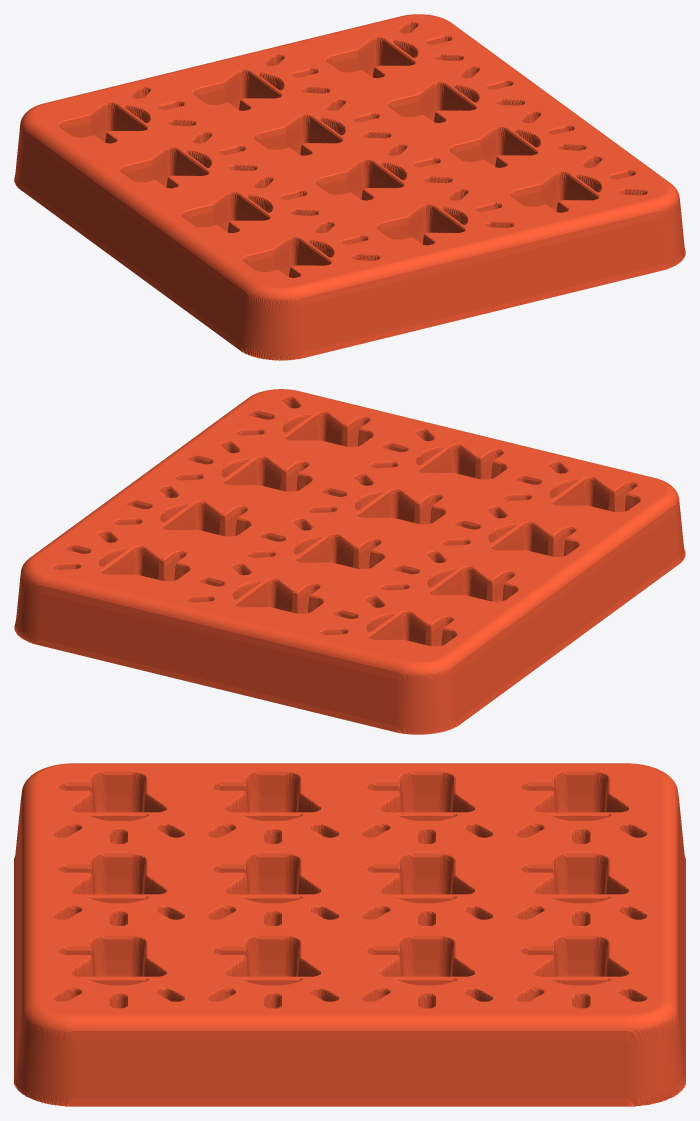
The model's file is mold.glb.
3 views of the same model, one above another, from view 1: azimuth 30°, elevation 25°; view 2: azimuth 150°, elevation 25°; view 3: azimuth 270°, elevation 25° (orthographic). The views are drawn at different scales.
Visible parts, largest first — view 1: geometry_0; view 2: geometry_0; view 3: geometry_0.
Boxes of the visible parts, left/top/right/bottom form: geometry_0: left=14, top=14, right=685, bottom=360; geometry_0: left=14, top=389, right=685, bottom=734; geometry_0: left=14, top=763, right=685, bottom=1106.
Size of the model in its own units: 0.0963 by 0.0136 by 0.1014.
